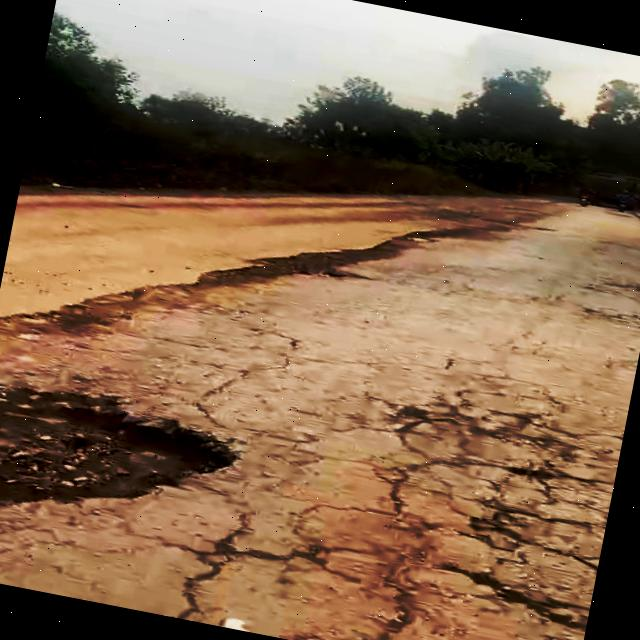pothole: (0, 364, 271, 571)
